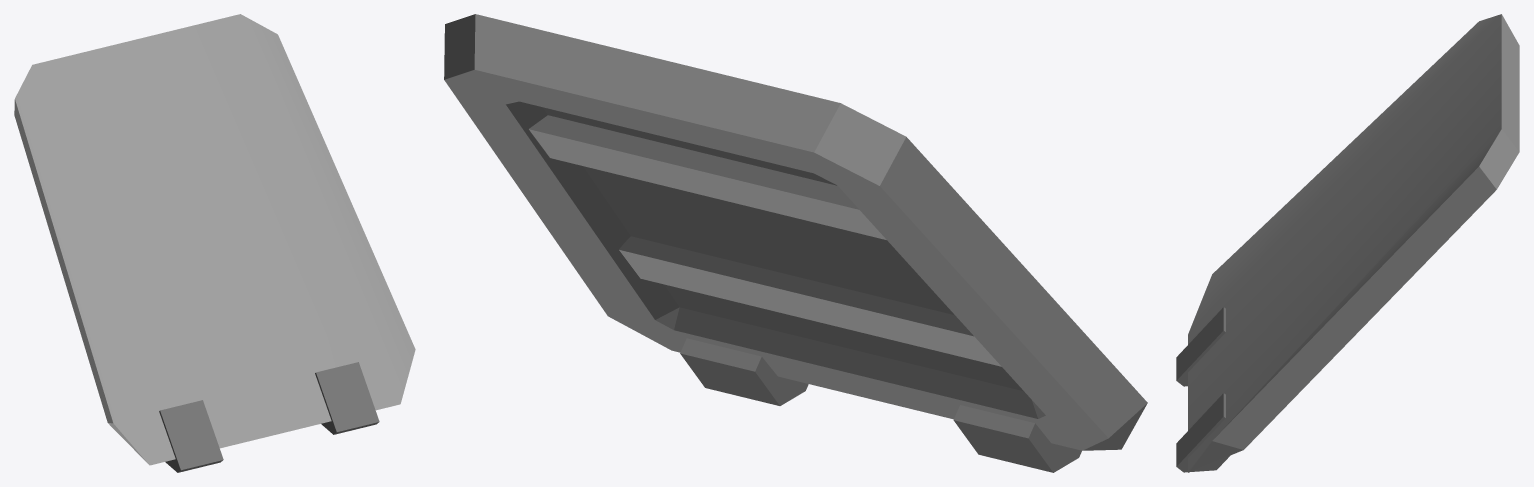
File: starship_005_door.fbx
3 views of the same model, side by side, from view 1: azimuth 30°, elevation 25°; view 2: azimuth 150°, elevation 25°; view 3: azimuth 270°, elevation 25° (orthographic). The views are drawn at different scales.
Visible parts, largest first — view 1: _door; view 2: _door; view 3: _door.
Part boxes in pixels (x1,y1,x2,y2): _door: (14,14,415,472); _door: (444,14,1147,472); _door: (1176,14,1519,472).
Size of the model in its own units: 276 by 268 by 240.
